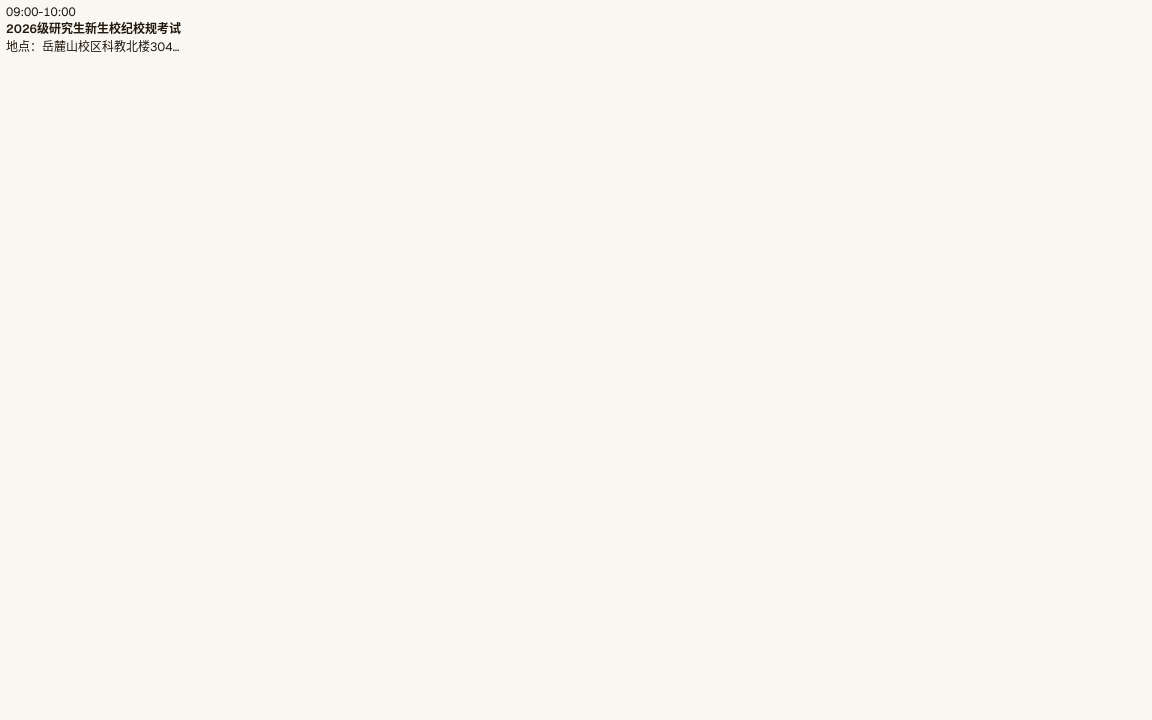
Test: schedule card information › shows notes on one-hour cards and offers the full title, tag and preparation list in the preview
The width and height of the screenshot is (1152, 720).
Expected: the button "地点：岳麓山校区科教北楼304 提前十分钟到场" is shown, [6,39,1131,55]
What coordinates should you click on to do the following:
click the button "09:00-10:00"
I would click on:
 (41, 12)
Its box is [6,5,76,19].
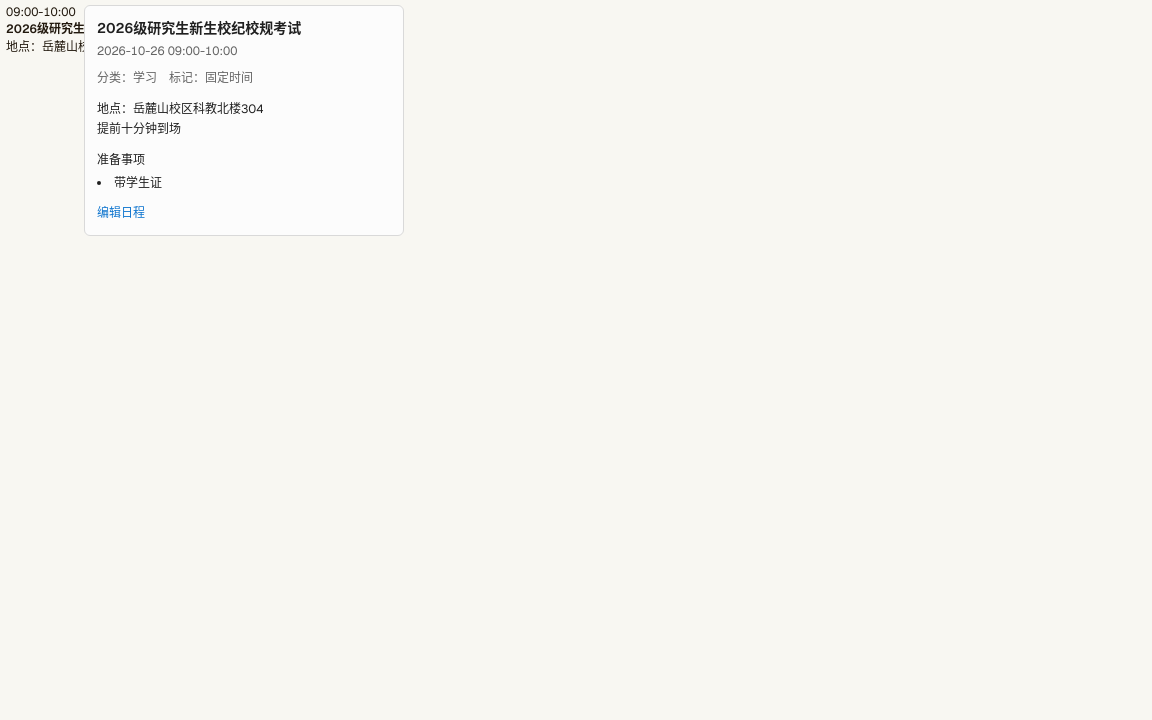
Expected: the dialog shows "2026级研究生新生校纪校规考试", [97,19,301,37]
Expected: the dialog shows "分类：学习", [84,5,404,236]
Expected: the dialog shows "标记：固定时间", [84,5,404,236]
